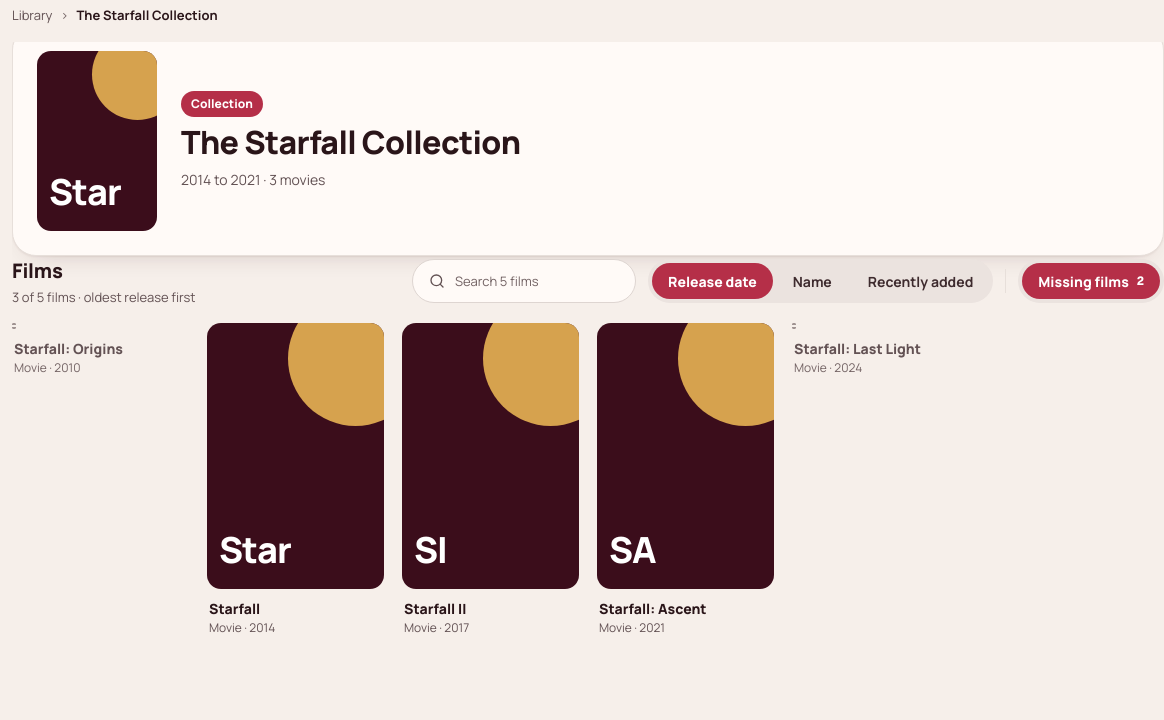
FranchisePage › finds films by name, the ones it lacks too, and keeps the search with them
In the search field named "Search The Starfall Collection": (521, 281) [455,260,587,302], type "as"
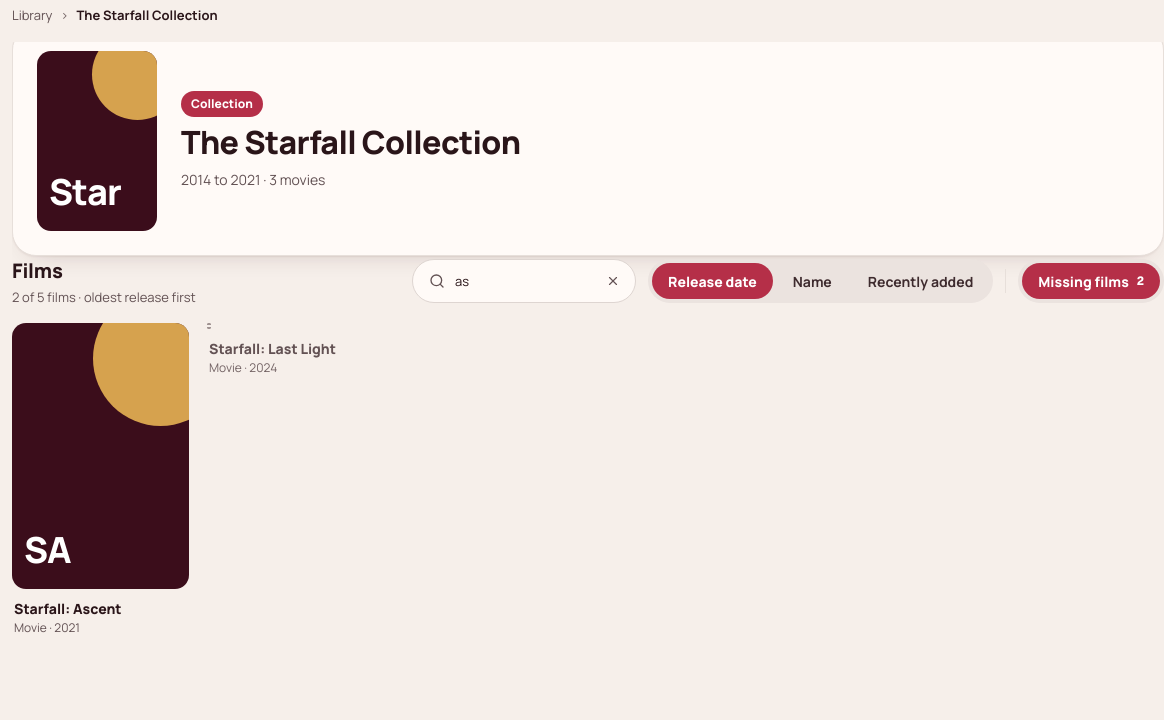
Result: the text "2 of 5 films · oldest release first" is shown at [12,288,196,307]
Note: Taking the films it lacks away keeps the search.
Click the button "Missing films 2": (1091, 281) [1022,263,1160,299]
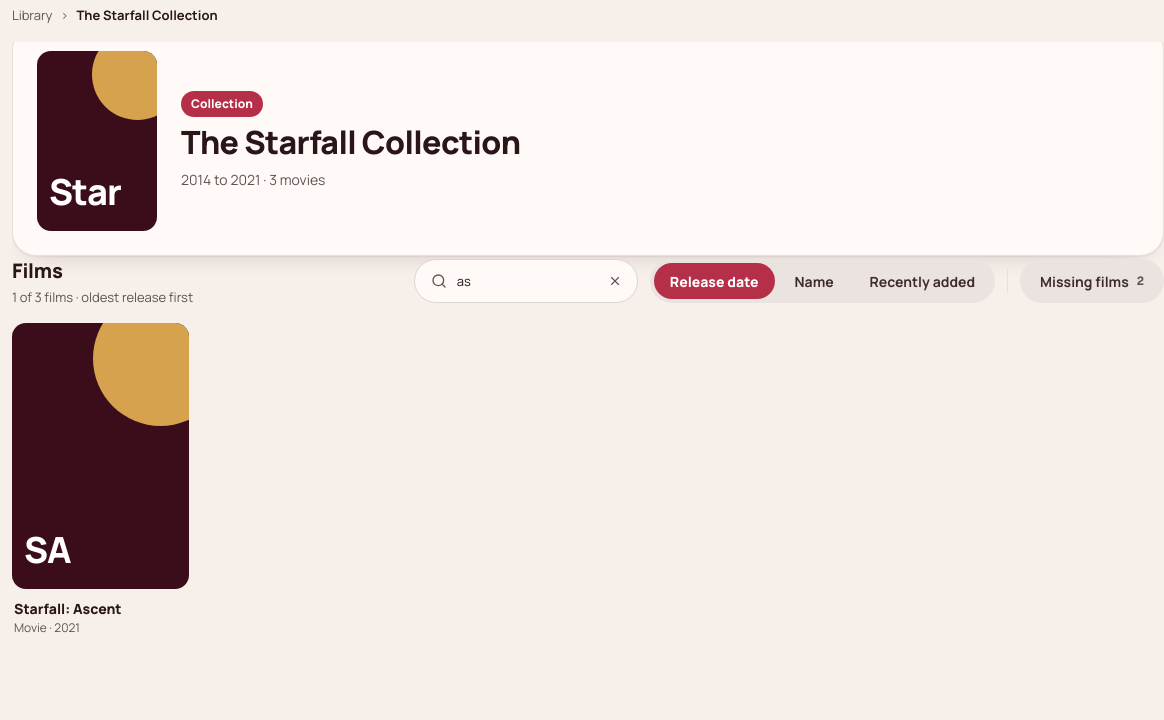
Result: the text "1 of 3 films · oldest release first" is shown at [12,288,193,307]
Replace the text in the search field named "Search The Starfall Collection" with "Harbour": (523, 281) [457,260,589,302]
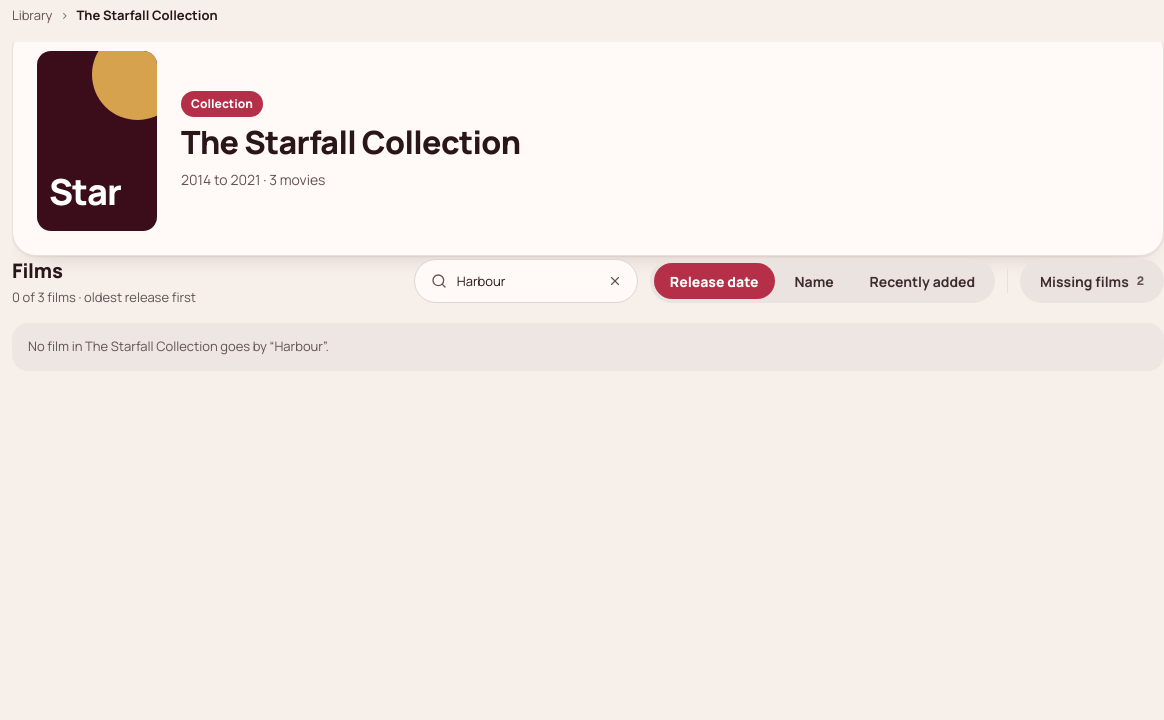
Result: the message reads "No film in The Starfall Collection goes by “Harbour”." at [12,323,1163,370]
